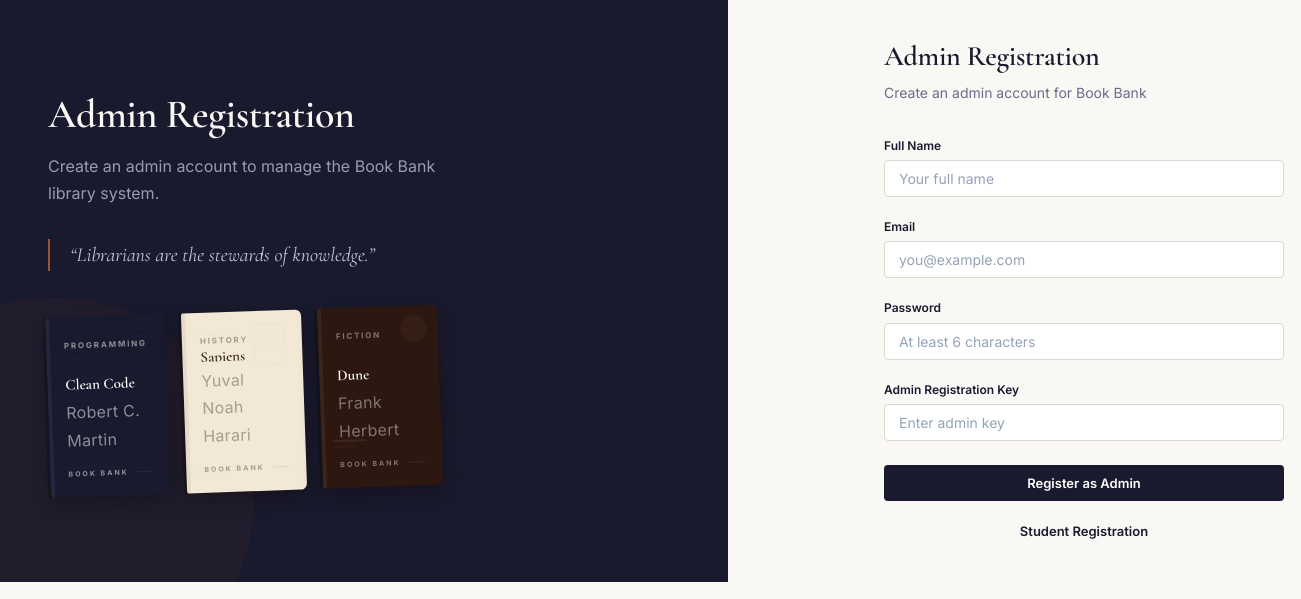
Test: AdminRegister › submits the admin key to /api/auth/admin-register and shows the success screen
Step 1. Type "New Admin" into the field labelled "Full Name" → (1084, 179), box top-left (884, 160), bottom-right (1284, 197)
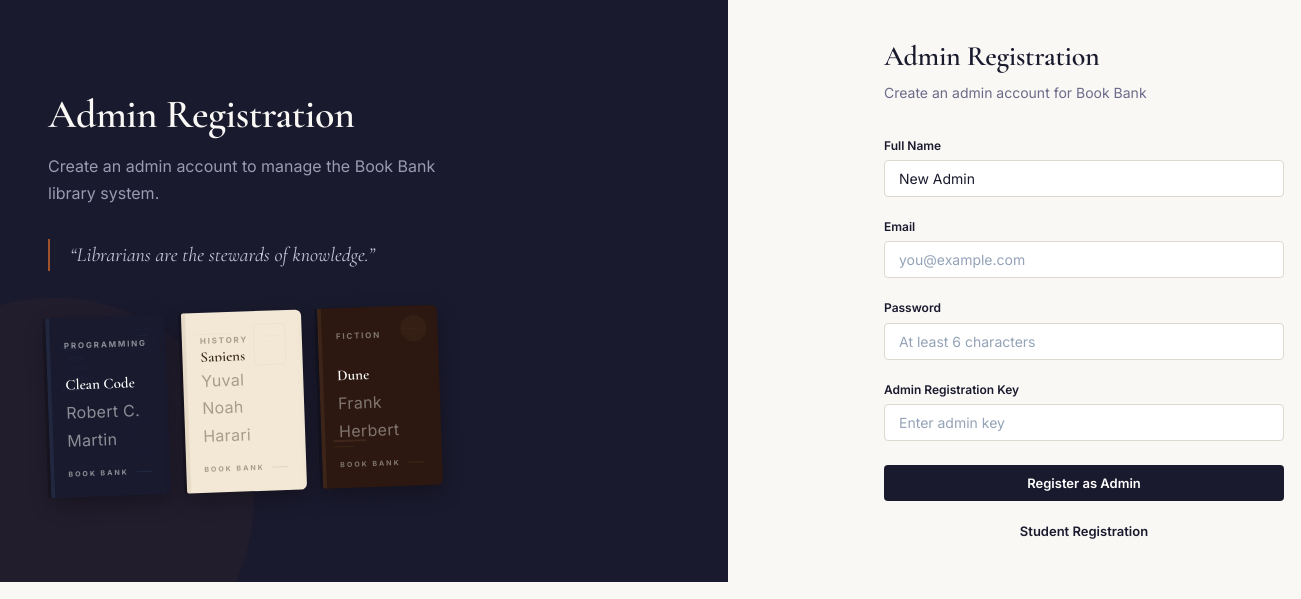
Step 2. Type "new-admin@example.test" into the field labelled "Email" → (1084, 260), box top-left (884, 241), bottom-right (1284, 278)
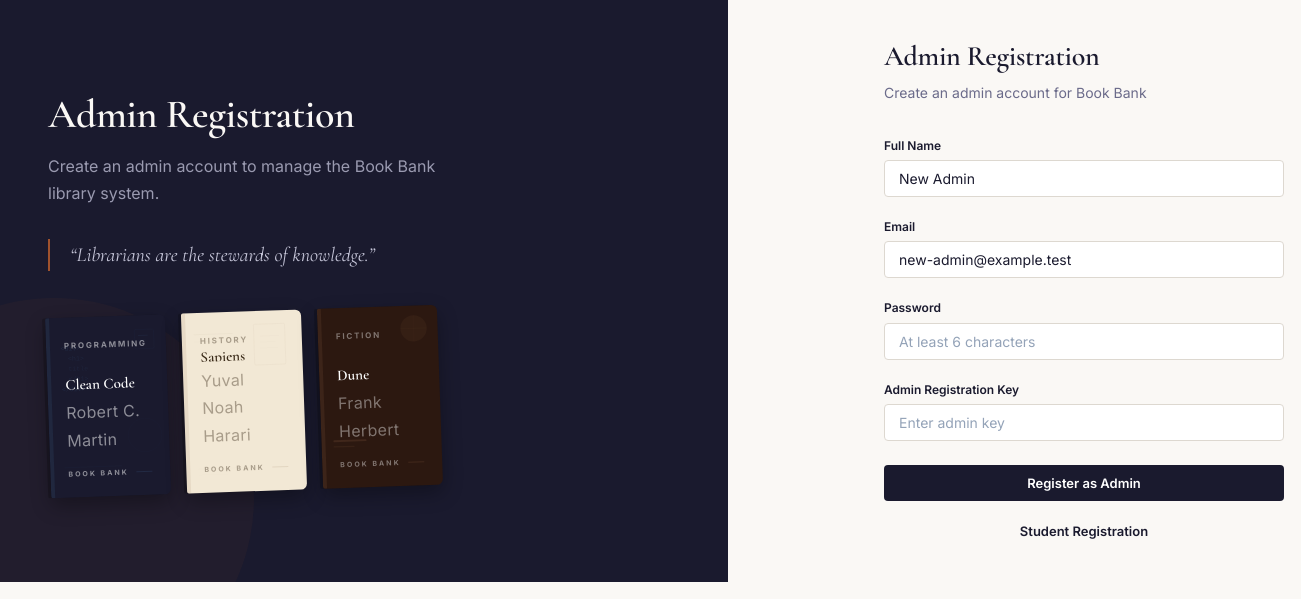
Step 3. Type "secret123" into the password field labelled "Password" → (1084, 341), box top-left (884, 322), bottom-right (1284, 360)
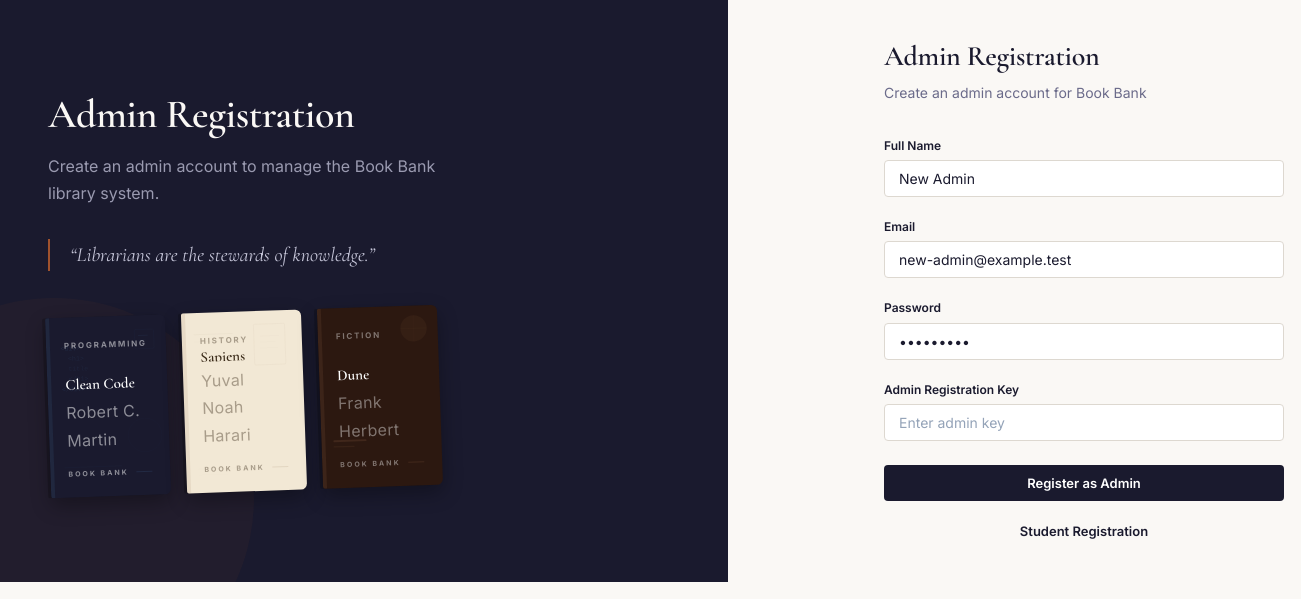
Step 4. Type "correct-key" into the password field labelled "Admin Registration Key" → (1084, 422), box top-left (884, 404), bottom-right (1284, 441)
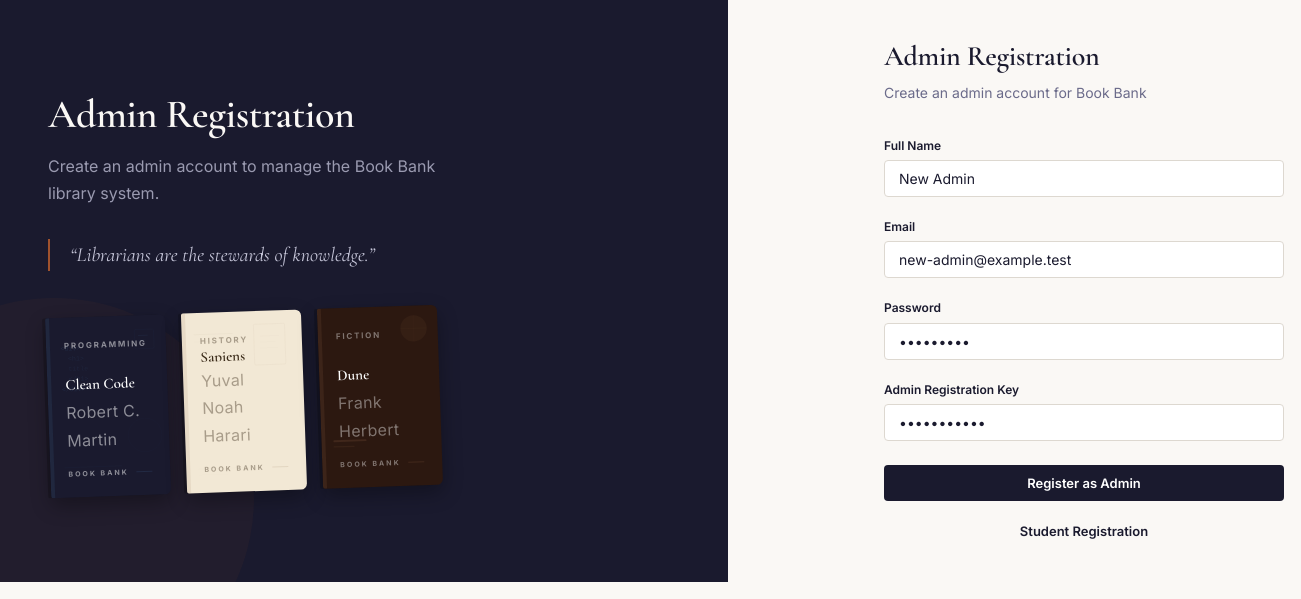
Step 5. Click the button "Register as Admin" → (1084, 483), box top-left (884, 465), bottom-right (1284, 501)
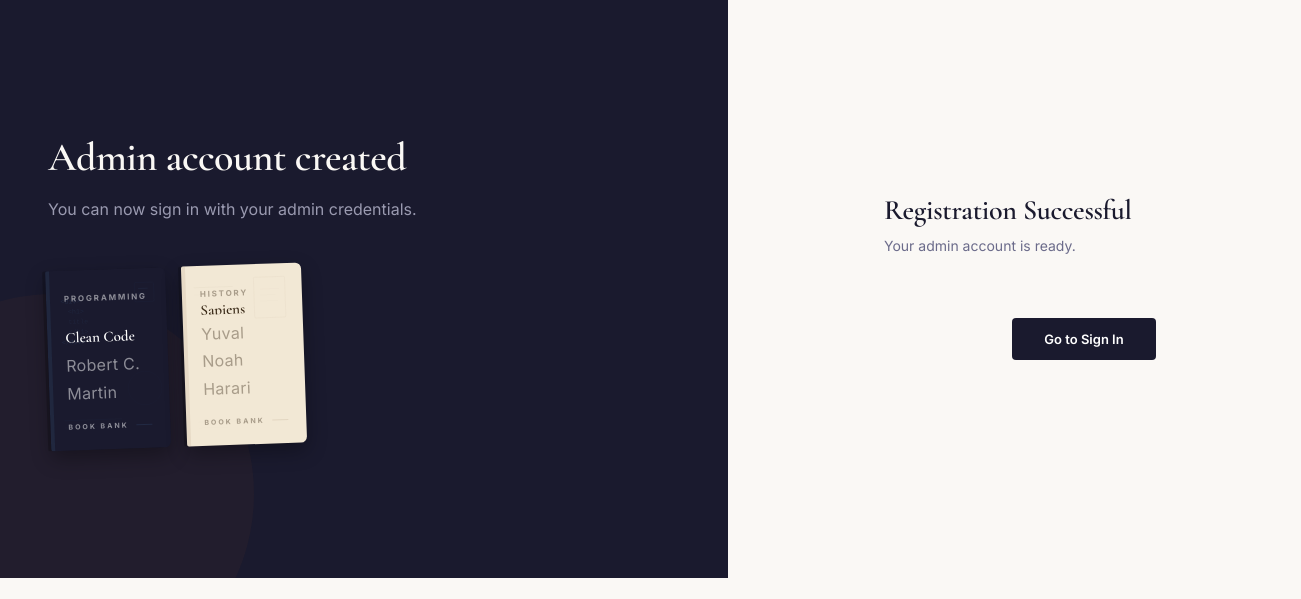
Now the heading "Registration Successful" is shown, box top-left (884, 193), bottom-right (1132, 227)
